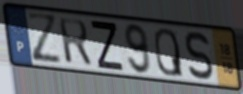9: (123, 22, 152, 77)
Q: (153, 27, 185, 79)
R: (57, 16, 94, 69)
S: (184, 30, 215, 82)
Z: (25, 10, 65, 65), (88, 18, 125, 73)
